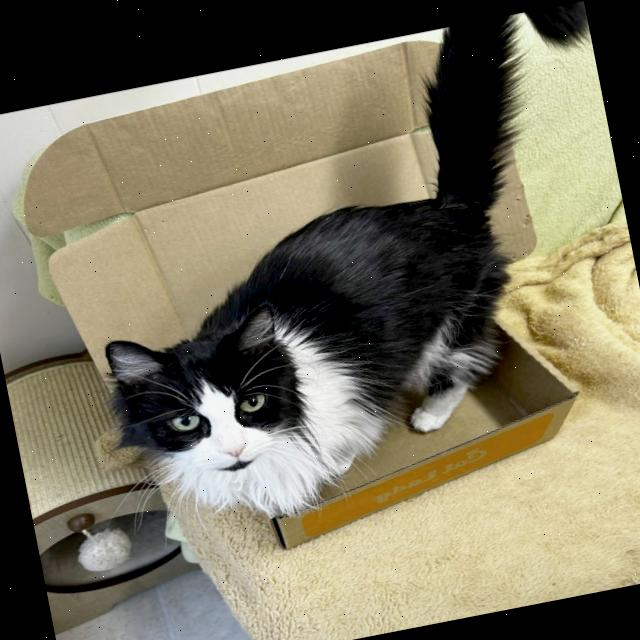domestic_long_hair_cat: (84, 282, 356, 540)
